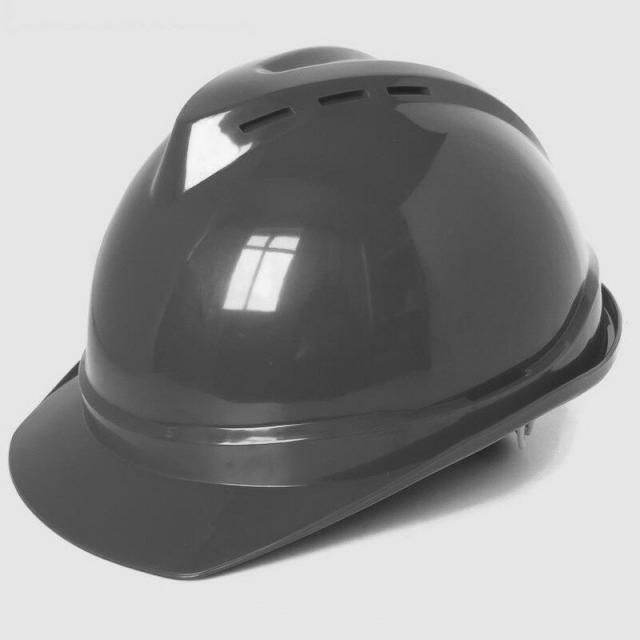safety_helmet: (8, 46, 623, 584)
